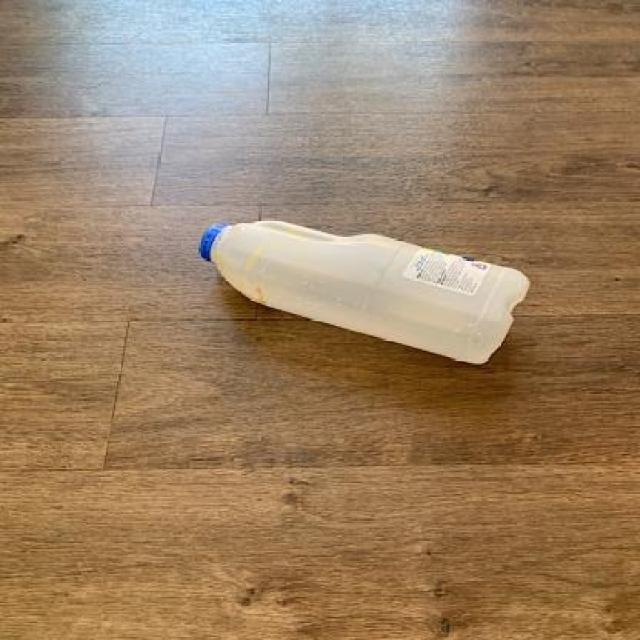trash: (194, 208, 540, 370)
